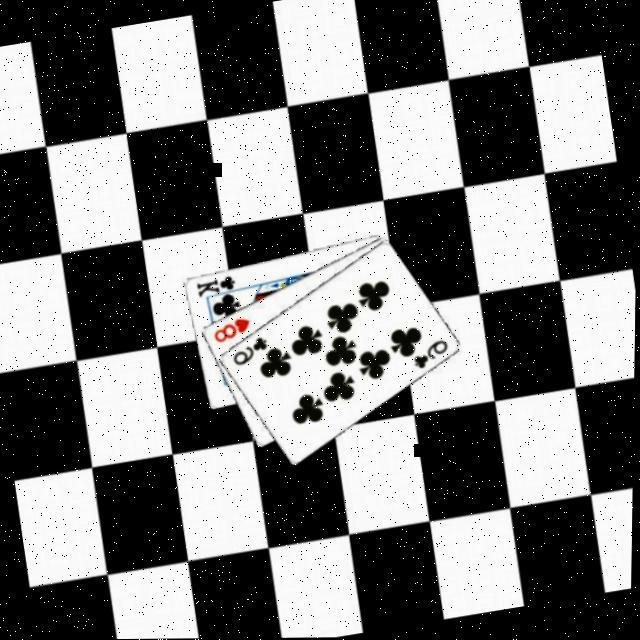8H: (208, 316, 254, 348)
9C: (227, 335, 273, 371), (408, 339, 454, 375)
KC: (193, 274, 243, 305)
